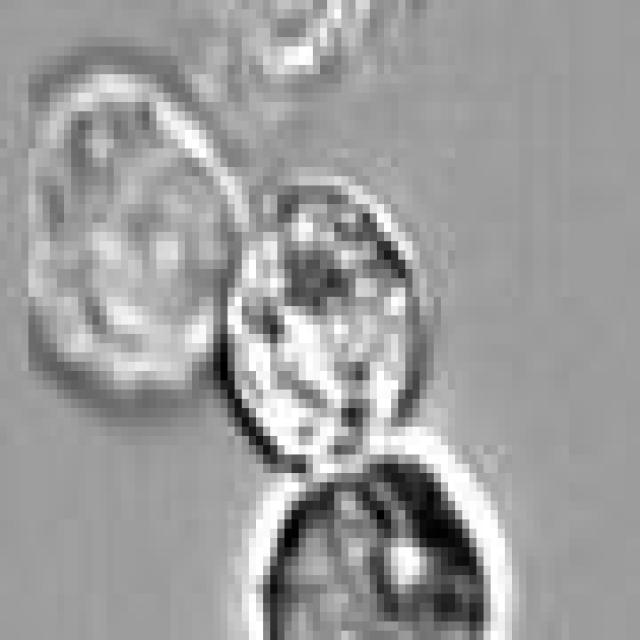Cancer Cell: (21, 56, 256, 398), (256, 436, 498, 640)
WBC: (235, 186, 420, 454)
